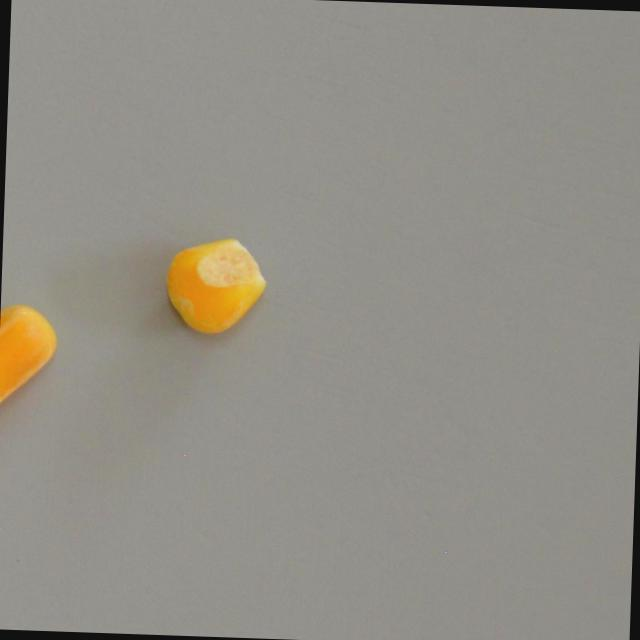dañado: (161, 230, 269, 342)
entero: (0, 298, 59, 434)
